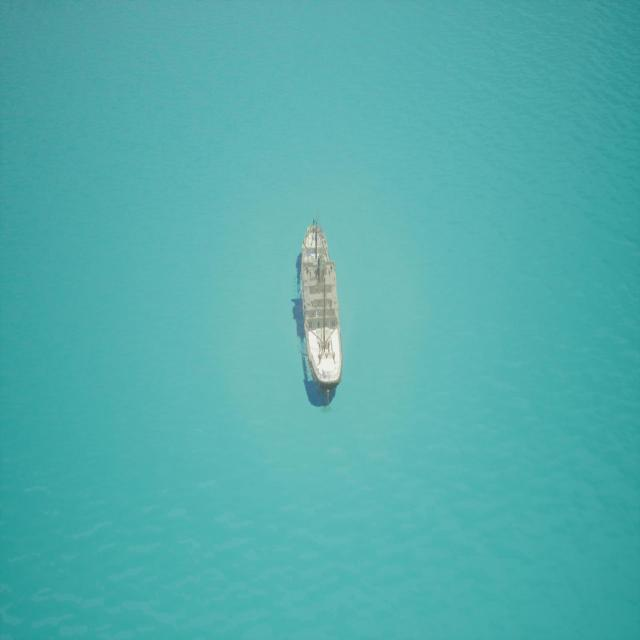fishing ship: (285, 196, 351, 418)
